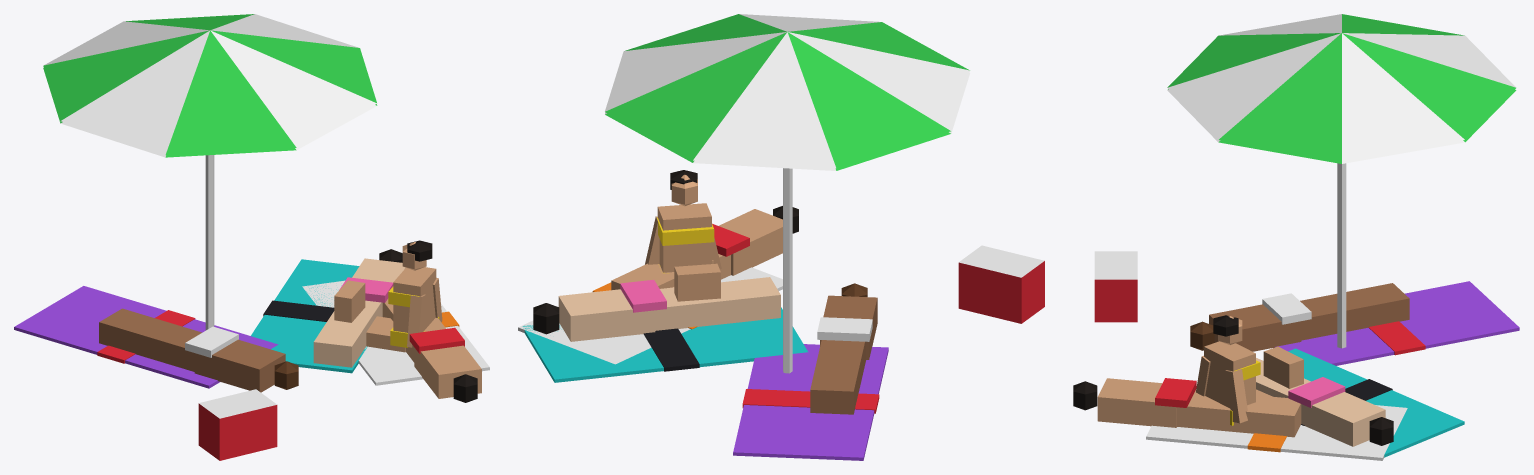
File: playa_grupo_4.obj
3 views of the same model, side by side, from view 1: azimuth 30°, elevation 25°; view 2: azimuth 150°, elevation 25°; view 3: azimuth 270°, elevation 25° (orthographic). The views are drawn at different scales.
Parts seen in each view (by area): view 1: playa_grupo_4; view 2: playa_grupo_4; view 3: playa_grupo_4.
Boxes of the visible parts, x1,y1,x2,y2 form: playa_grupo_4: (14,14,489,460); playa_grupo_4: (518,14,1044,460); playa_grupo_4: (1073,14,1519,460).
Size of the model in its own units: 3.26 by 2.6 by 3.32.
